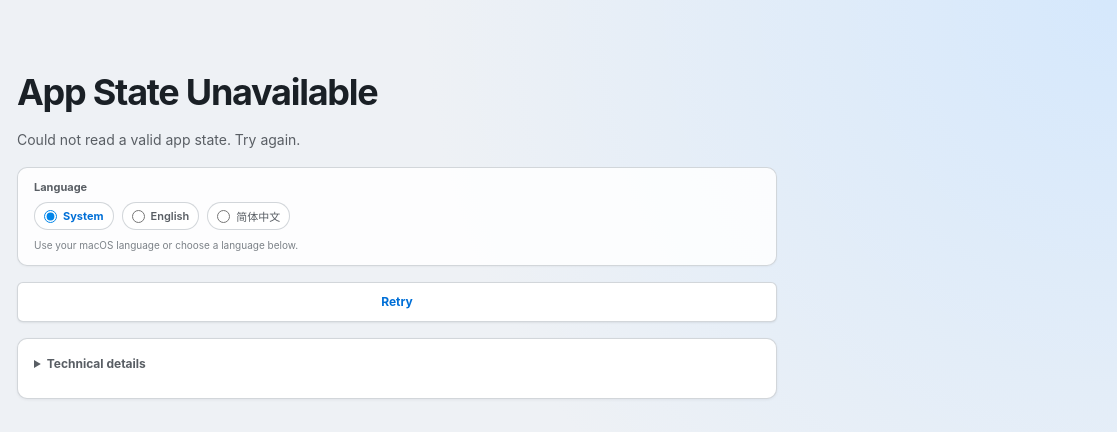
Test: app_state_unavailable route shows the raw diagnostic and Retry re-resolves
Expected: the message shows "App State Unavailable", [17,70,378,114]
What coordinates should you click on to do the following:
click the button "Retry"
I would click on:
 (397, 302)
Its box is [17,282,777,322].
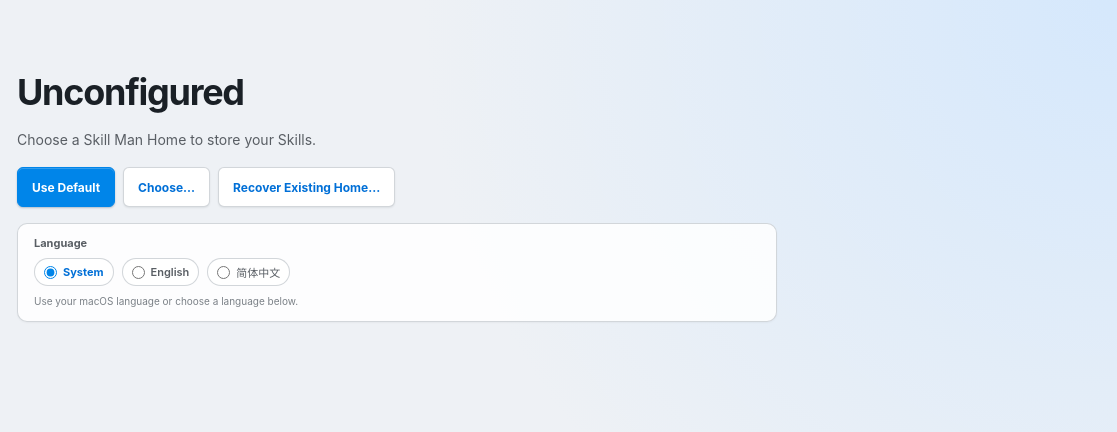
Expected: the message shows "Unconfigured", [17,70,244,114]
